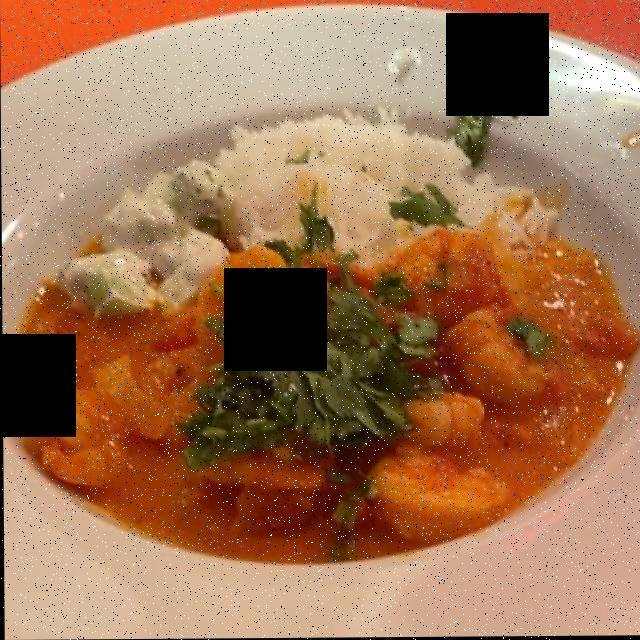cucumber: (58, 142, 239, 306)
rice: (229, 96, 572, 262)
shrimp: (34, 219, 577, 520)
tomato-sauce: (25, 230, 617, 577)
yogurt: (70, 160, 244, 314)
